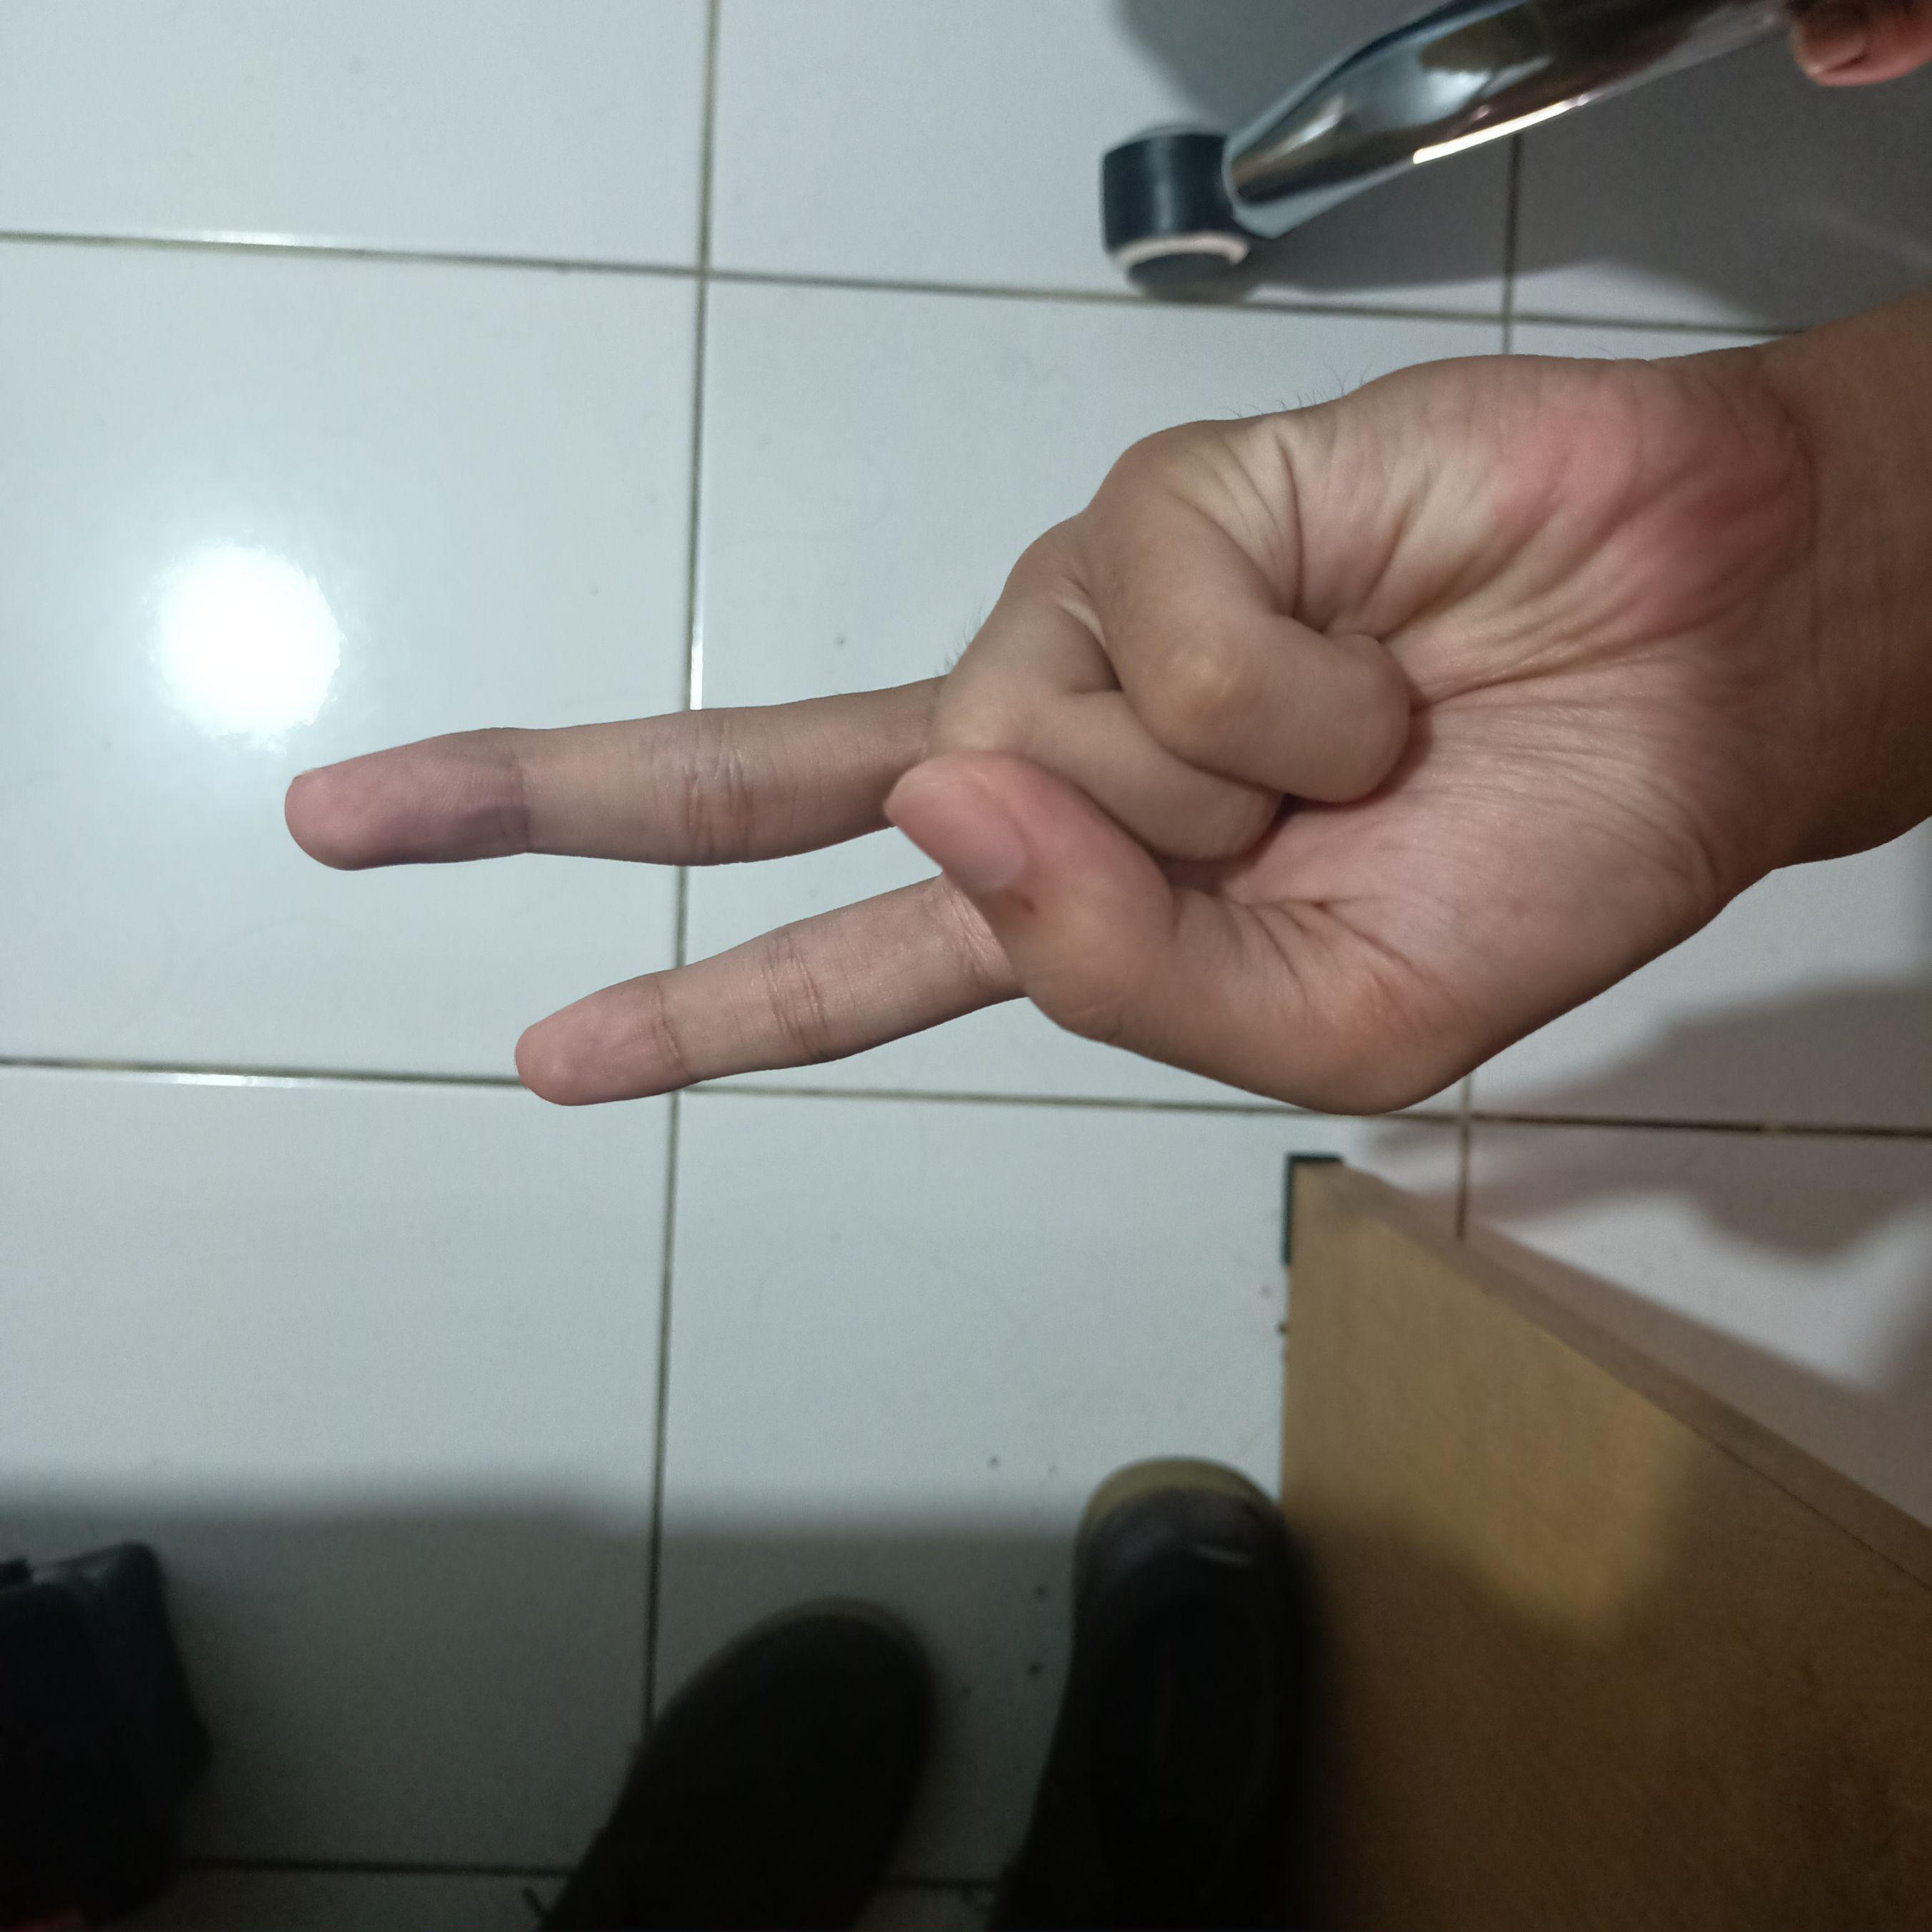scissors: (249, 320, 1845, 1139)
